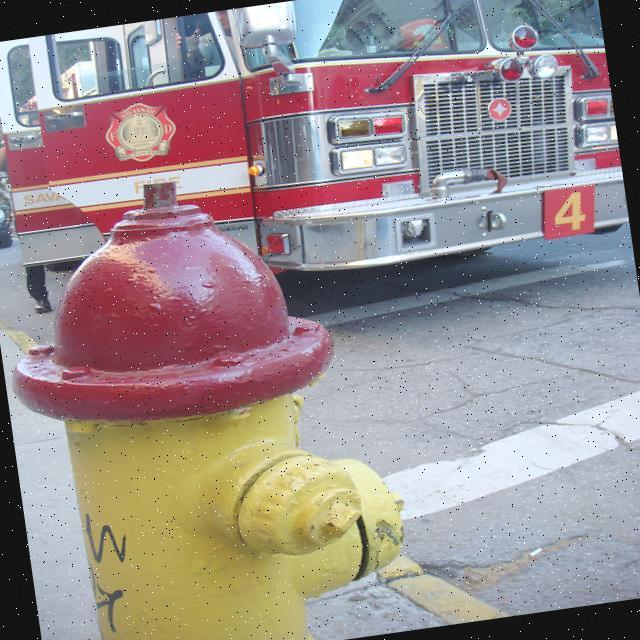fire_hydrant: (0, 155, 424, 640)
